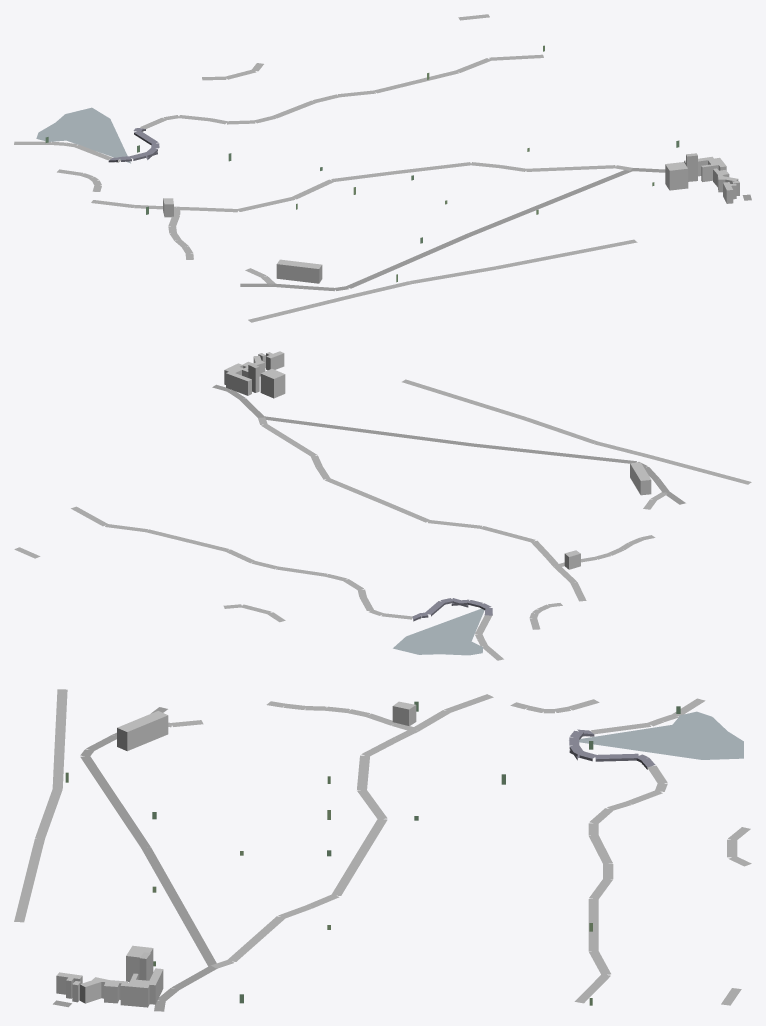
3 views of the same model, one above another, from view 1: azimuth 30°, elevation 25°; view 2: azimuth 150°, elevation 25°; view 3: azimuth 270°, elevation 25° (orthographic). The views are drawn at different scales.
Bounding box in the file's own units: 528 × 30.93 × 507.
